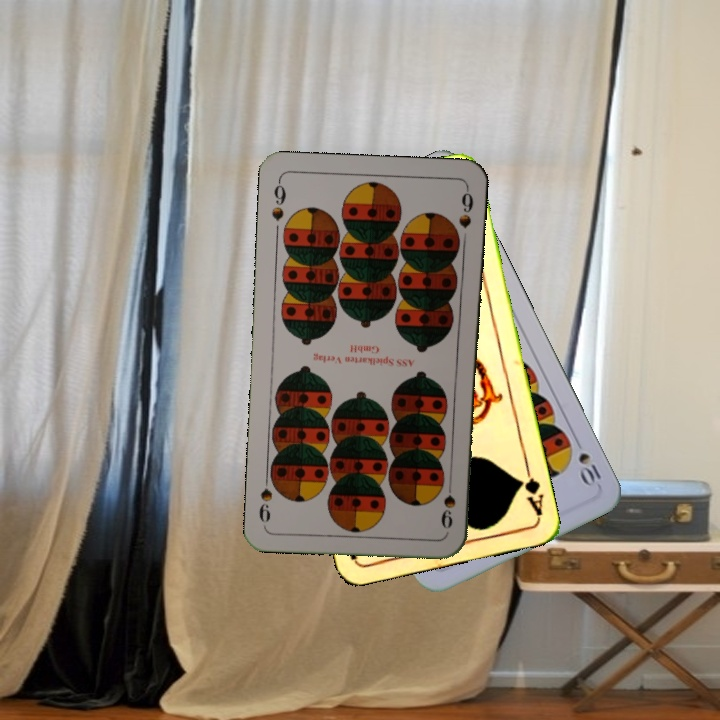GA: (514, 460, 546, 519)
S10: (570, 433, 604, 489)
S9: (437, 474, 458, 531), (267, 176, 288, 223)
